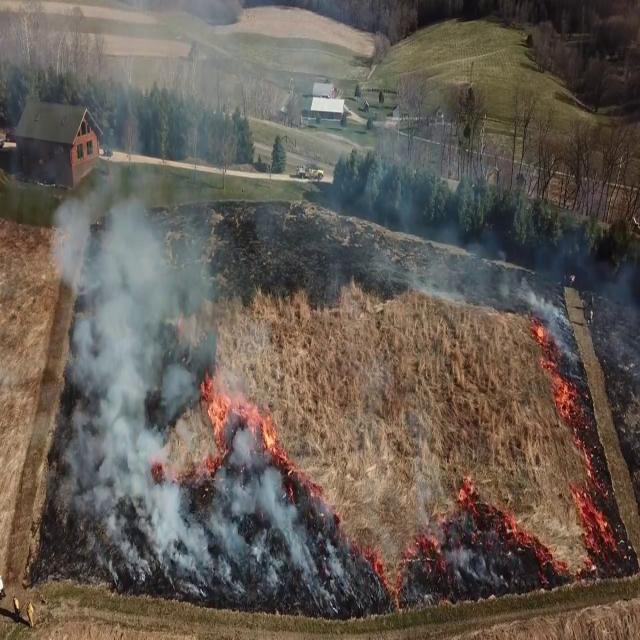Fire: (196, 364, 276, 462), (196, 363, 240, 449)
Smoke: (44, 102, 318, 596)
